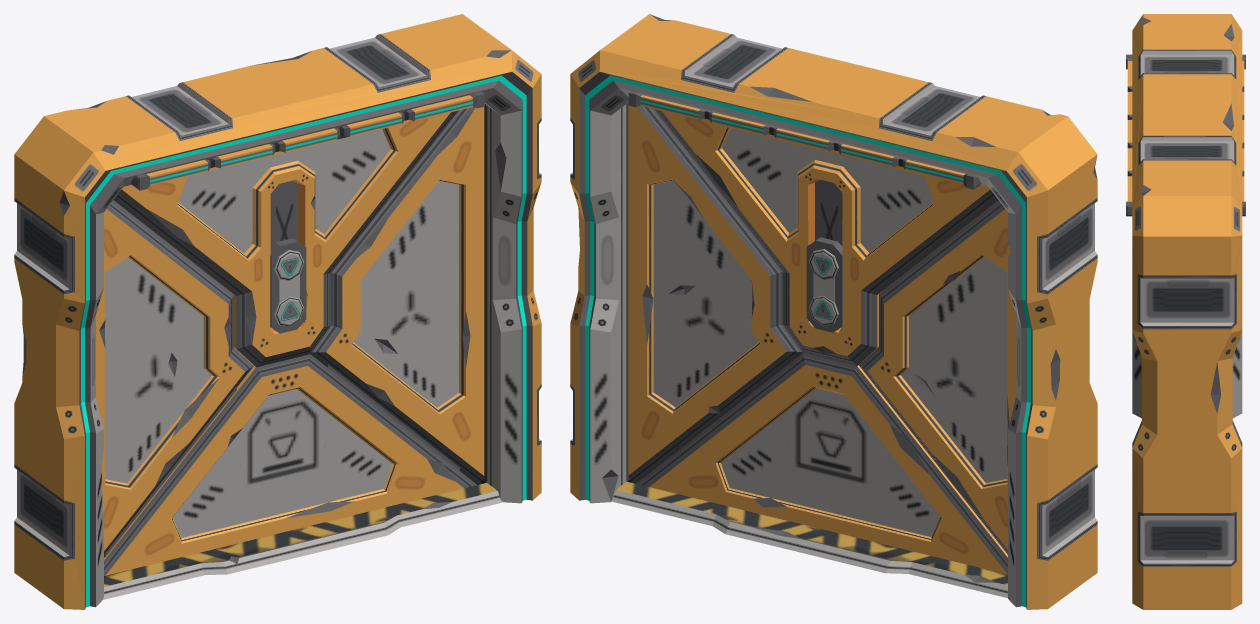
Rendered from SM_Bld_Door_Double_01.fbx.
3 renders of one model, left to right at view 1: azimuth 30°, elevation 25°; view 2: azimuth 150°, elevation 25°; view 3: azimuth 270°, elevation 25°, orthographic. The views are drawn at different scales.
Visible parts, largest first — view 1: SM_Bld_Door_Double_01, SM_Bld_Door_Double_01_Lock_01; view 2: SM_Bld_Door_Double_01, SM_Bld_Door_Double_01_Lock_01; view 3: SM_Bld_Door_Double_01.
Part boxes in pixels (x1=…): SM_Bld_Door_Double_01: x1=14, y1=14, x2=541, y2=609; SM_Bld_Door_Double_01_Lock_01: x1=270, y1=238, x2=306, y2=333; SM_Bld_Door_Double_01: x1=570, y1=14, x2=1097, y2=609; SM_Bld_Door_Double_01_Lock_01: x1=806, y1=237, x2=842, y2=332; SM_Bld_Door_Double_01: x1=1126, y1=14, x2=1245, y2=609.
Bounding box in the file's own units: 241 × 217 × 58.83.
